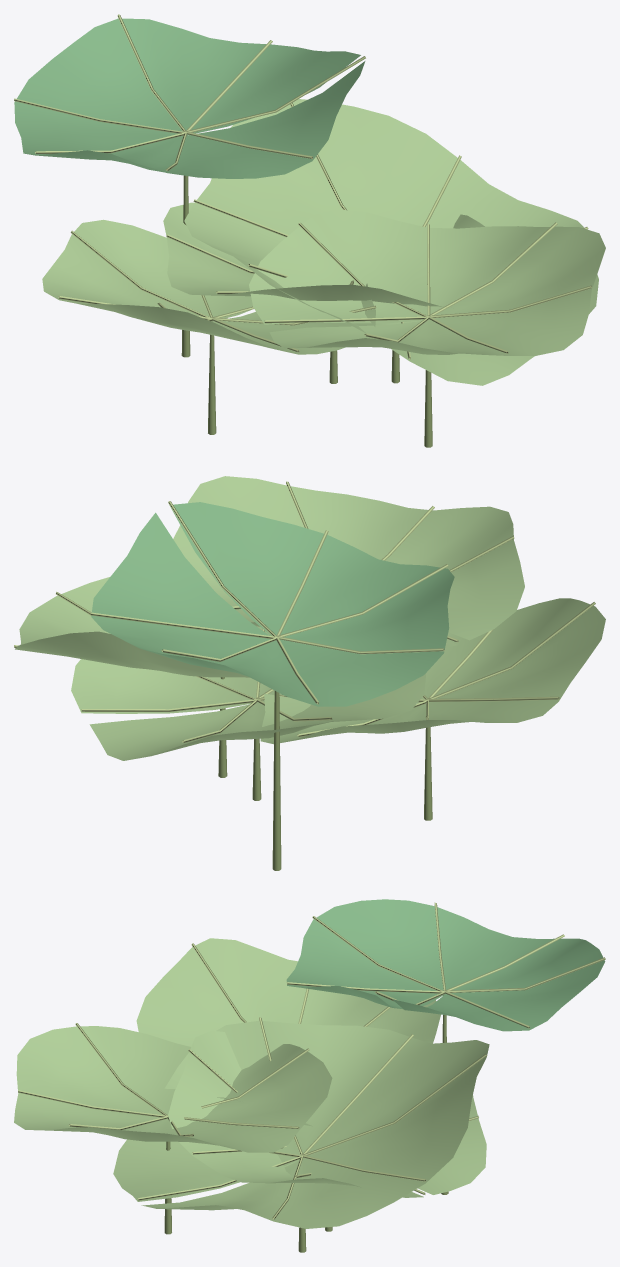
File: study_lotus_0.glb
3 renders of one model, top to bottom at view 1: azimuth 30°, elevation 25°; view 2: azimuth 150°, elevation 25°; view 3: azimuth 270°, elevation 25°, orthographic. The views are drawn at different scales.
Parts seen in each view (by area): view 1: study_lotus_0_LakeLeafLight, study_lotus_0_LakeLeaf, study_lotus_0_LakeVein, study_lotus_0_LakeReed; view 2: study_lotus_0_LakeLeafLight, study_lotus_0_LakeLeaf, study_lotus_0_LakeVein, study_lotus_0_LakeReed; view 3: study_lotus_0_LakeLeafLight, study_lotus_0_LakeLeaf, study_lotus_0_LakeVein, study_lotus_0_LakeReed.
Boxes of the visible parts, x1,y1,x2,y2 form: study_lotus_0_LakeLeafLight: [42, 99, 605, 385]; study_lotus_0_LakeLeaf: [14, 18, 365, 178]; study_lotus_0_LakeVein: [14, 14, 592, 359]; study_lotus_0_LakeReed: [181, 175, 432, 447]; study_lotus_0_LakeLeafLight: [15, 476, 605, 760]; study_lotus_0_LakeLeaf: [91, 502, 454, 706]; study_lotus_0_LakeVein: [14, 481, 595, 742]; study_lotus_0_LakeReed: [218, 677, 432, 870]; study_lotus_0_LakeLeafLight: [14, 938, 489, 1228]; study_lotus_0_LakeLeaf: [286, 899, 605, 1031]; study_lotus_0_LakeVein: [18, 902, 605, 1219]; study_lotus_0_LakeReed: [164, 995, 448, 1252].
Size of the model in its own units: 1.68 by 0.913 by 1.85.
